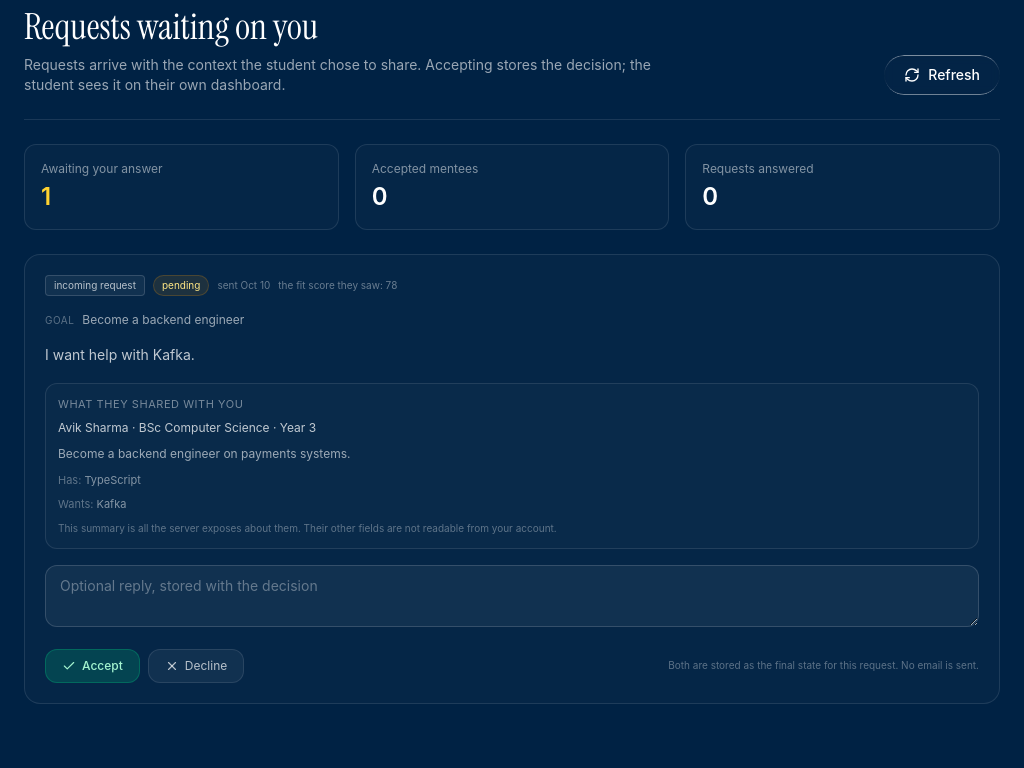
Test: MentorInbox › accepts through the real endpoint and reports the stored state
(page scrolled)
Expected: the text "Avik Sharma · BSc Computer Science · Year 3" is shown, [58, 420, 316, 435]
Click the button "Accept" at (92, 666), box [45, 649, 140, 683]
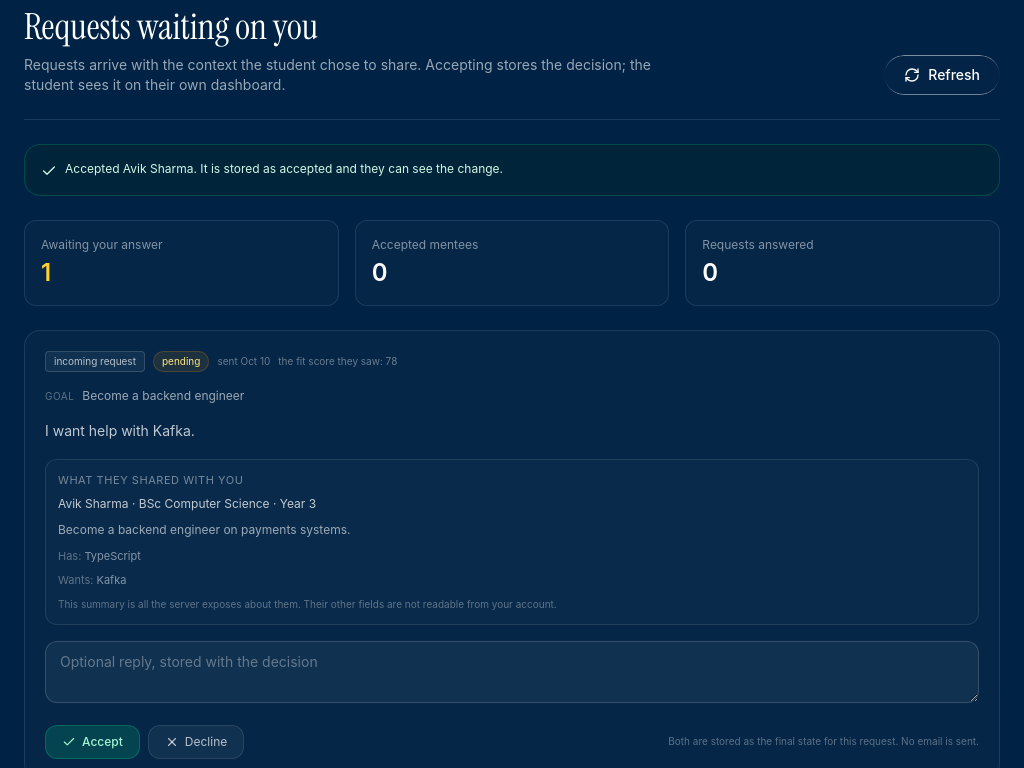
Expected: the text "No email is sent" is shown, [668, 735, 979, 747]
Result: the text "they can see the change" is shown at [65, 161, 503, 176]
